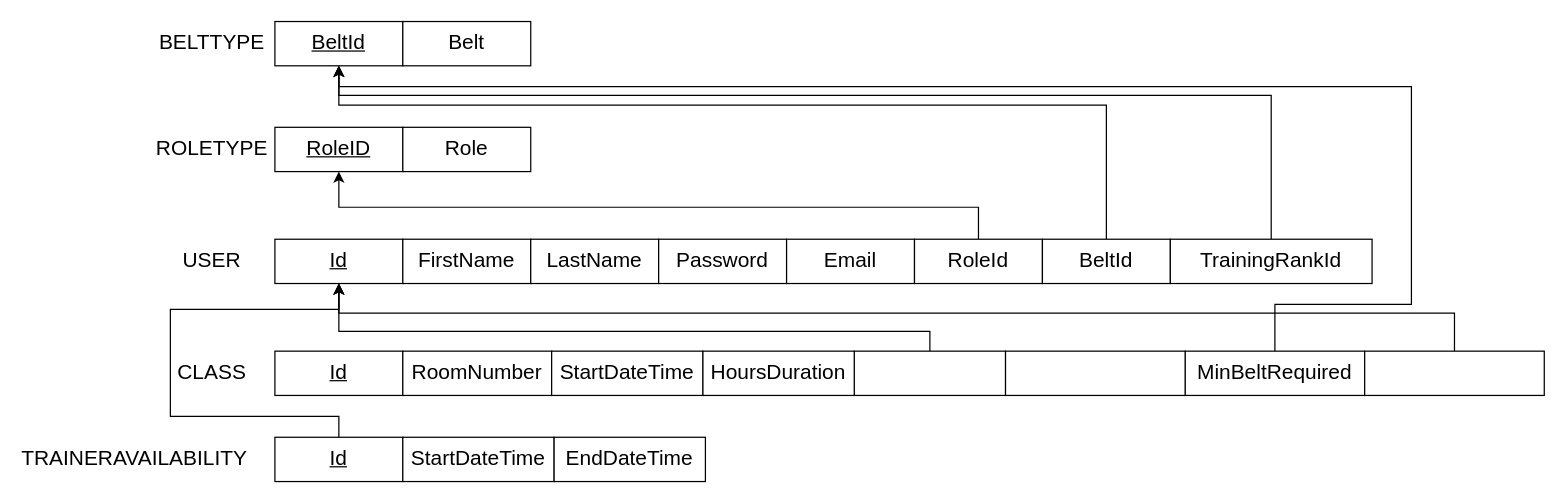
Some shapes in this 1566 by 503 pixel diagram are drawn without their labels. Here are the shapes that lost their labels. From the top down, the centre of each, then its label:
At point 929,372: "Trainer".
At point 1094,372: "MaxClassSize".
At point 1453,372: "Student".
